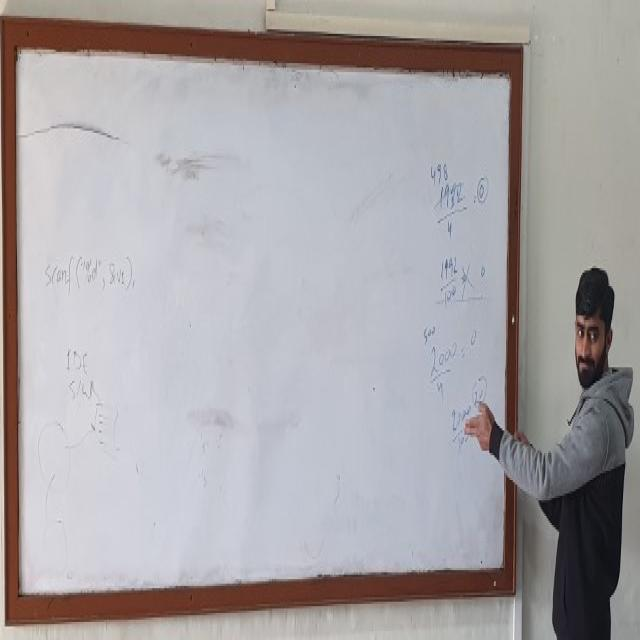Instructor: (537, 242, 636, 640)
White-board: (9, 27, 516, 606)
